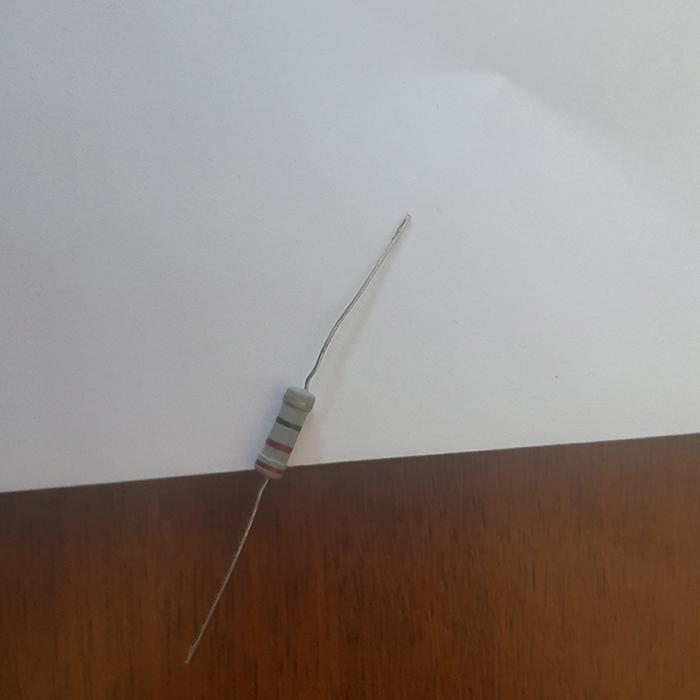resistor: (253, 383, 315, 482)
